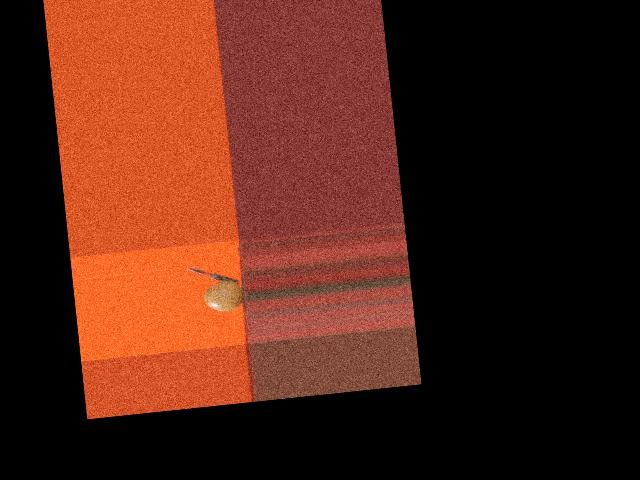egg: (203, 279, 244, 312)
